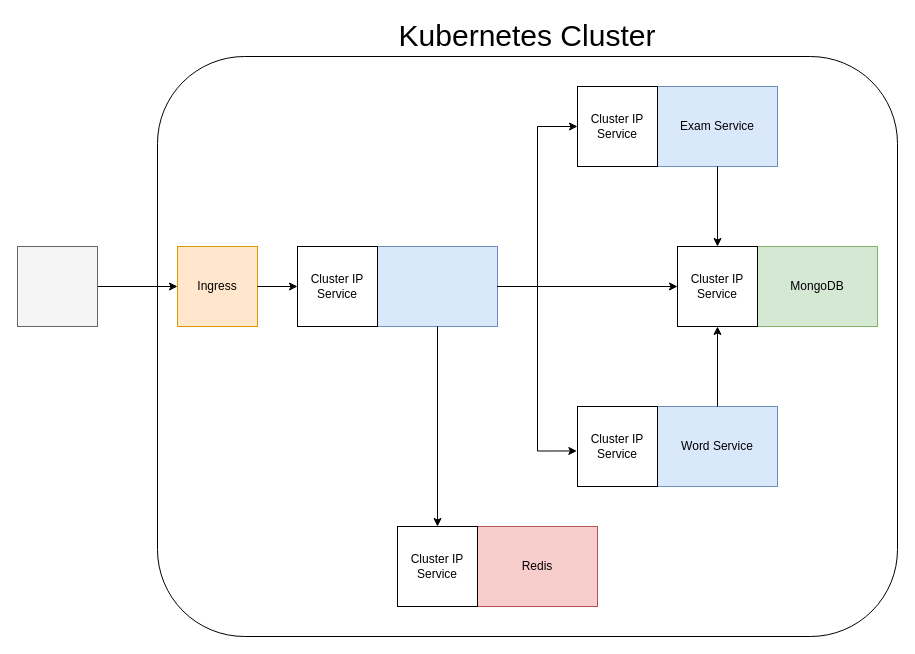
Image size: 915x654. Some labels were removed from this diagram. The shapes that lost their labels are listed below. From the top down, each one's centre as x and y in pixels, then its label:
point (57, 286): Request
point (437, 286): Web Service
